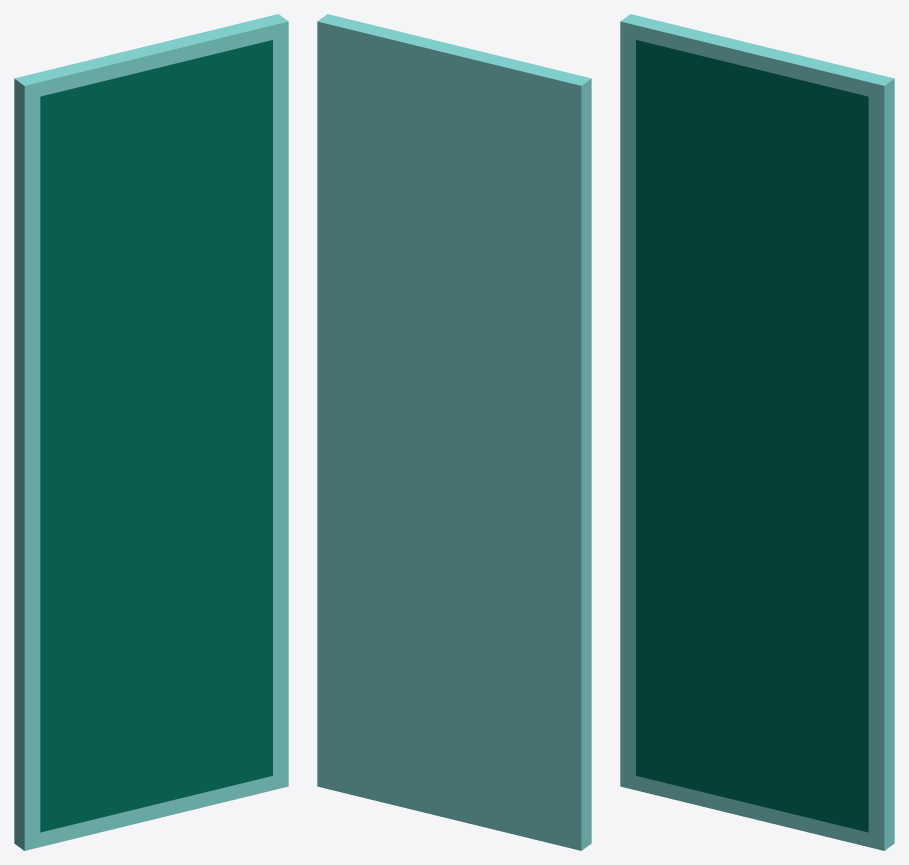
Rendered from SM_Panneau_Neon_petit.fbx.
3 renders of one model, left to right at view 1: azimuth 30°, elevation 25°; view 2: azimuth 150°, elevation 25°; view 3: azimuth 330°, elevation 25°, orthographic.
Parts seen in each view (by area): view 1: SM_Panneau_Neon_petit; view 2: SM_Panneau_Neon_petit; view 3: SM_Panneau_Neon_petit.
Boxes of the visible parts, <box> form: SM_Panneau_Neon_petit: <box>14,14,288,850</box>; SM_Panneau_Neon_petit: <box>317,14,591,850</box>; SM_Panneau_Neon_petit: <box>620,14,894,850</box>.
Bounding box in the file's own units: 1.75 × 4.84 × 0.1171.
